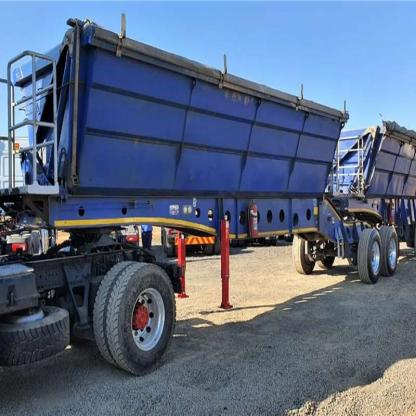dump_truck: (3, 12, 416, 380)
